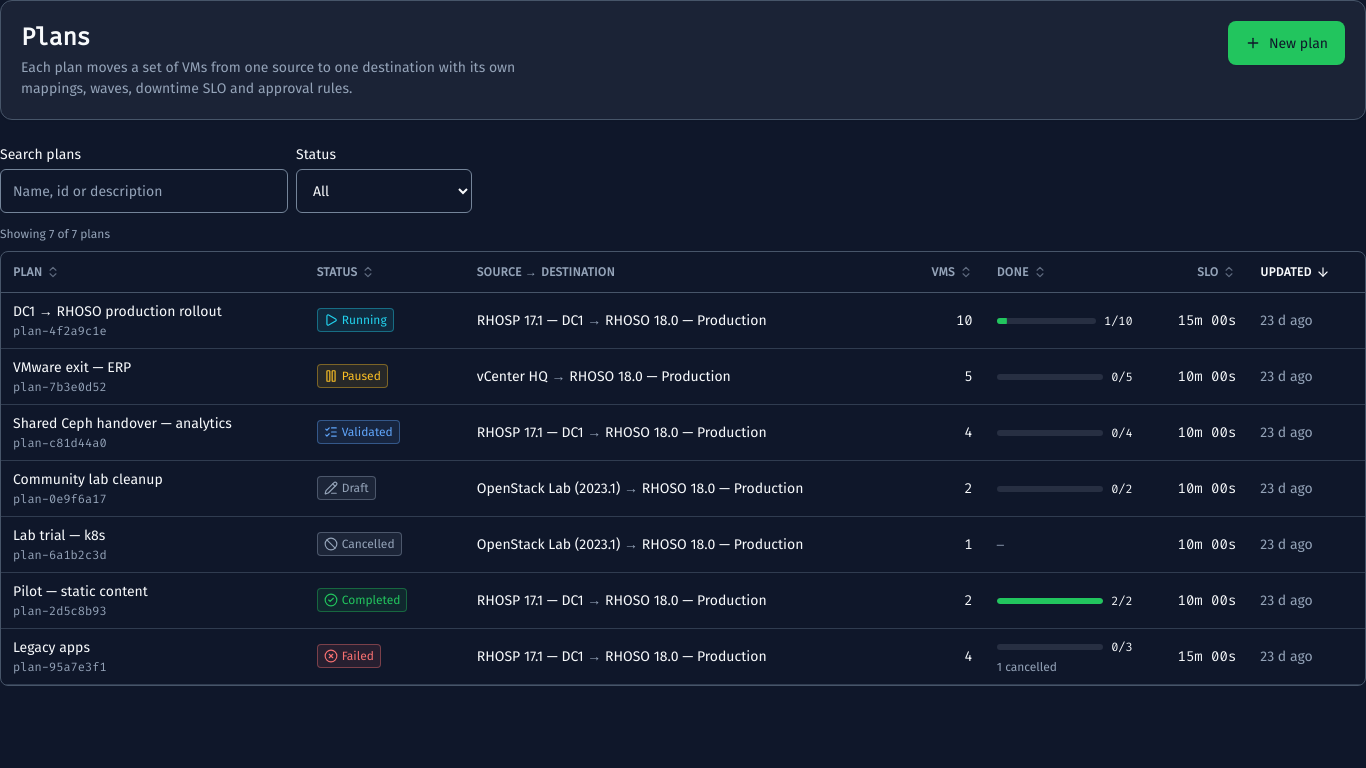
Scenario: Plans page › names a passthrough device no mapping can take
Click the button "New plan". click: (1286, 43)
box: [1228,21,1345,65]
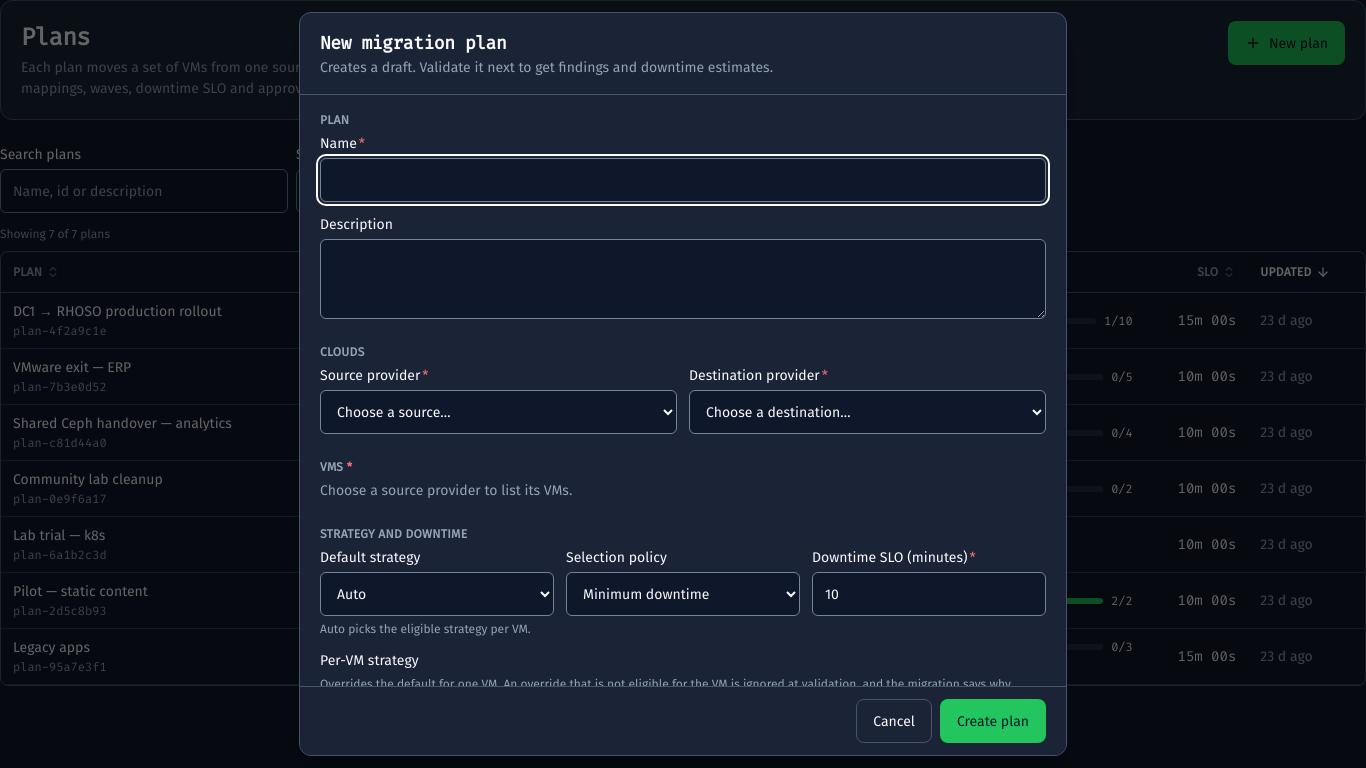
Type "FPGA" into the field labelled "Name*". click: (683, 180)
box: [320,158,1046,202]
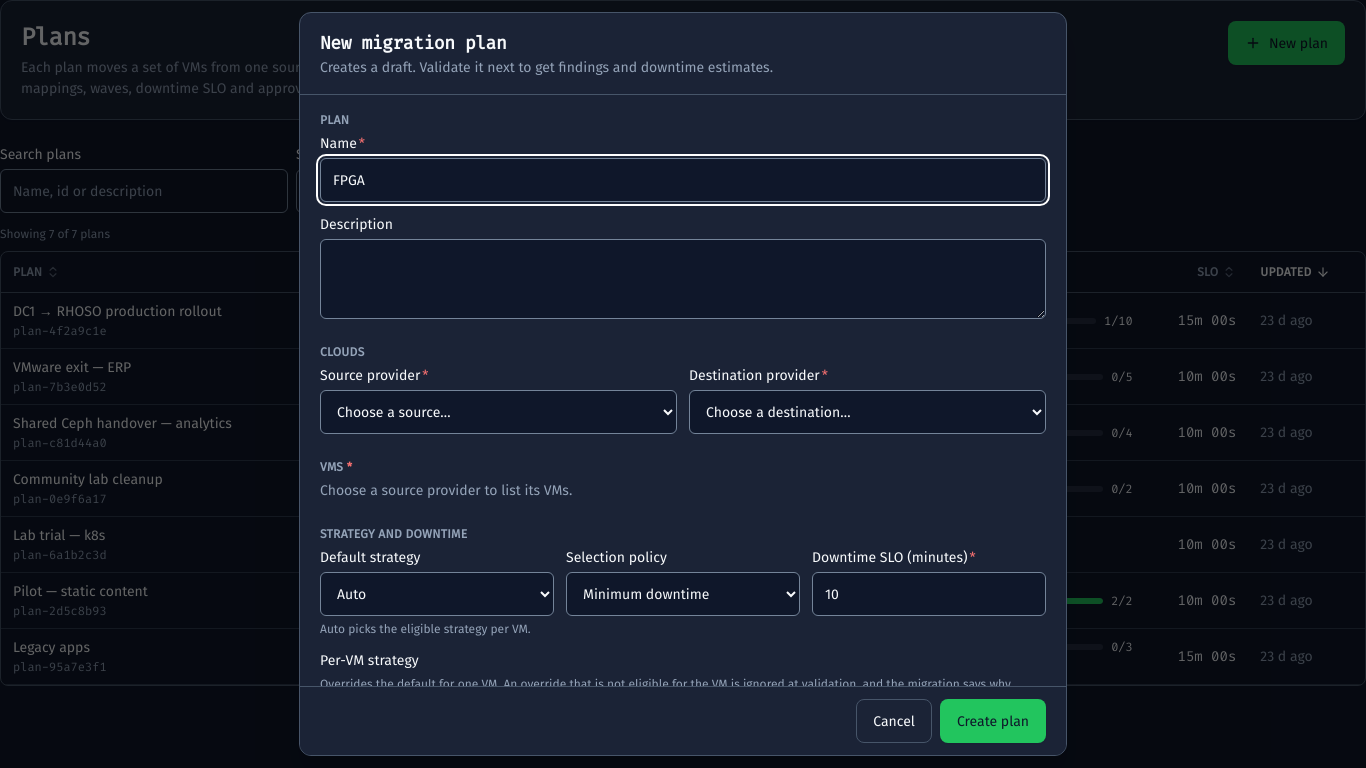
Select "vCenter HQ · Degraded" in the dropdown labelled "Source provider*". click: (498, 412)
box: [320,390,677,434]
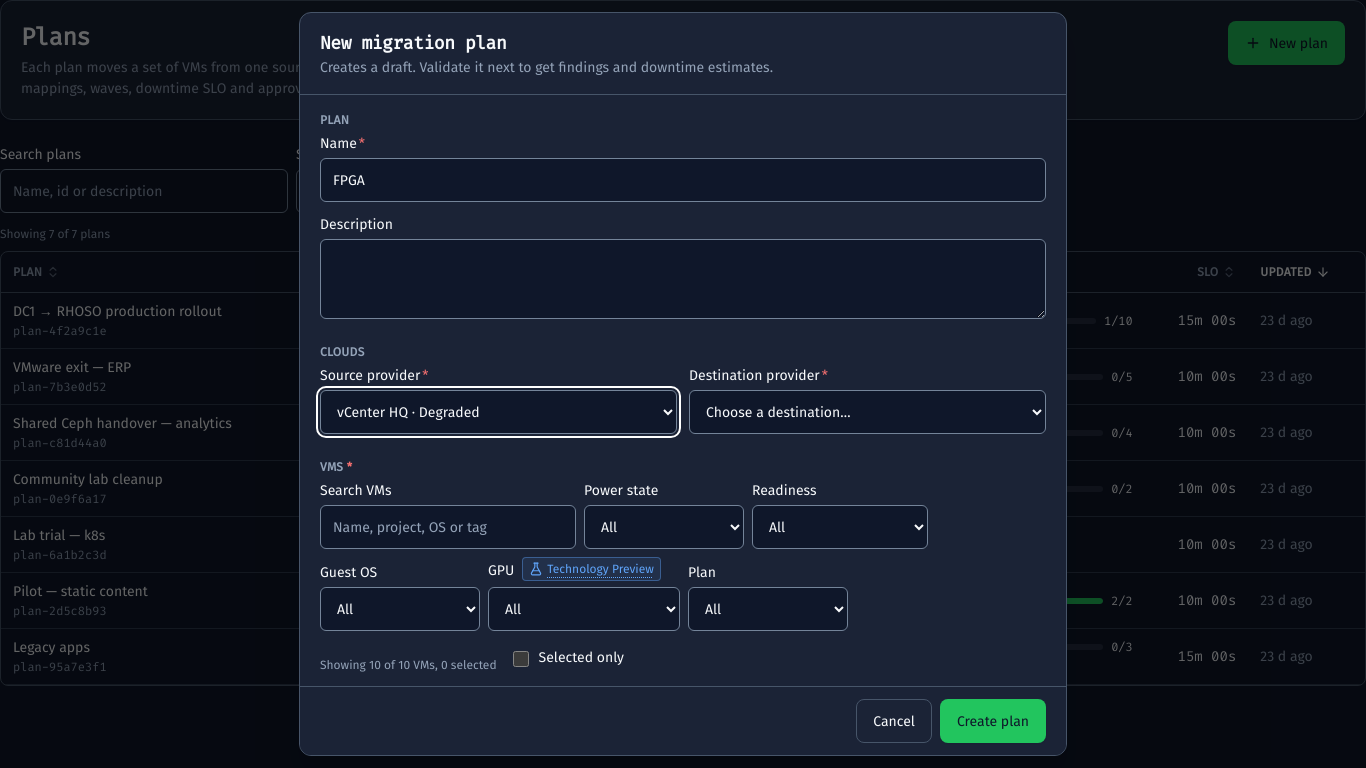
Select "RHOSO 18.0 — Production · Healthy" in the dropdown labelled "Destination provider*". click: (868, 412)
box: [689,390,1046,434]
(page scrolled)
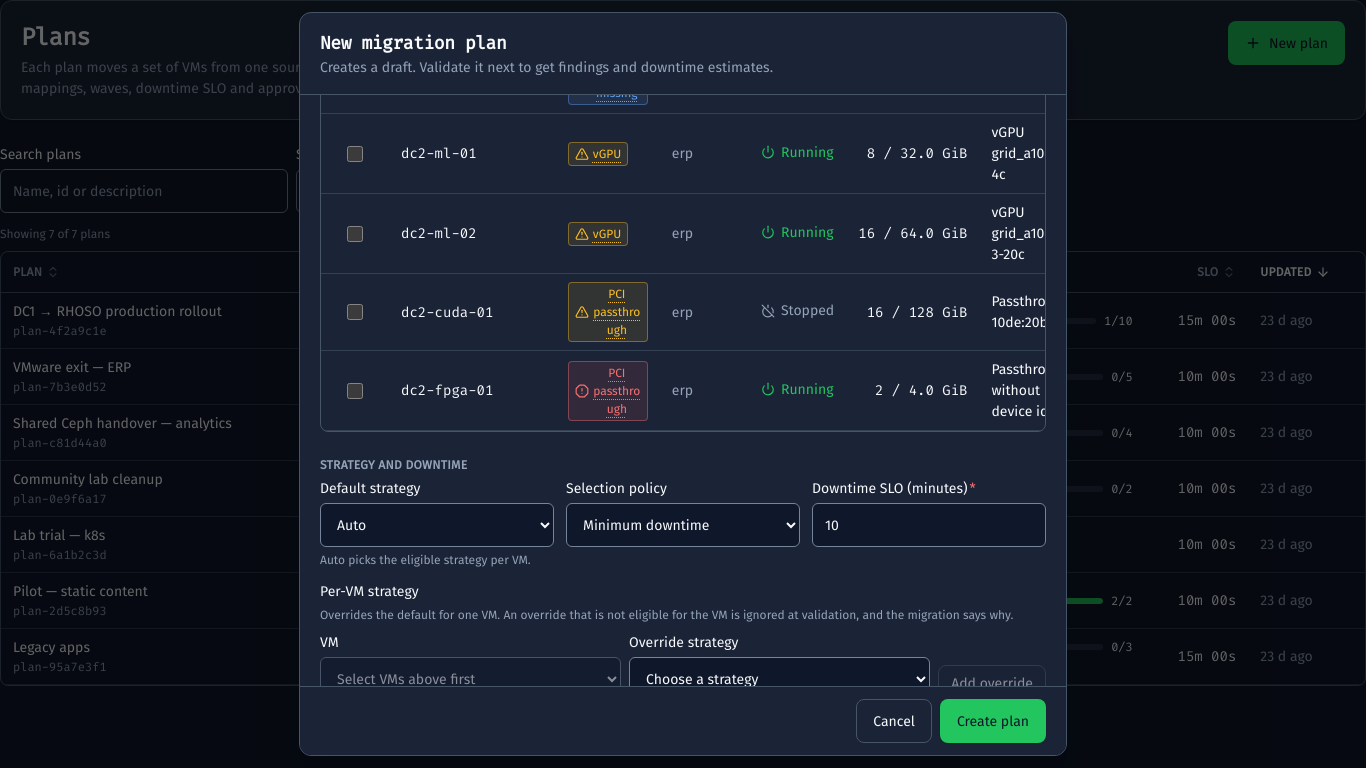
Click the checkbox named "Select dc2-fpga-01". click: (355, 390)
box: [347,382,363,398]
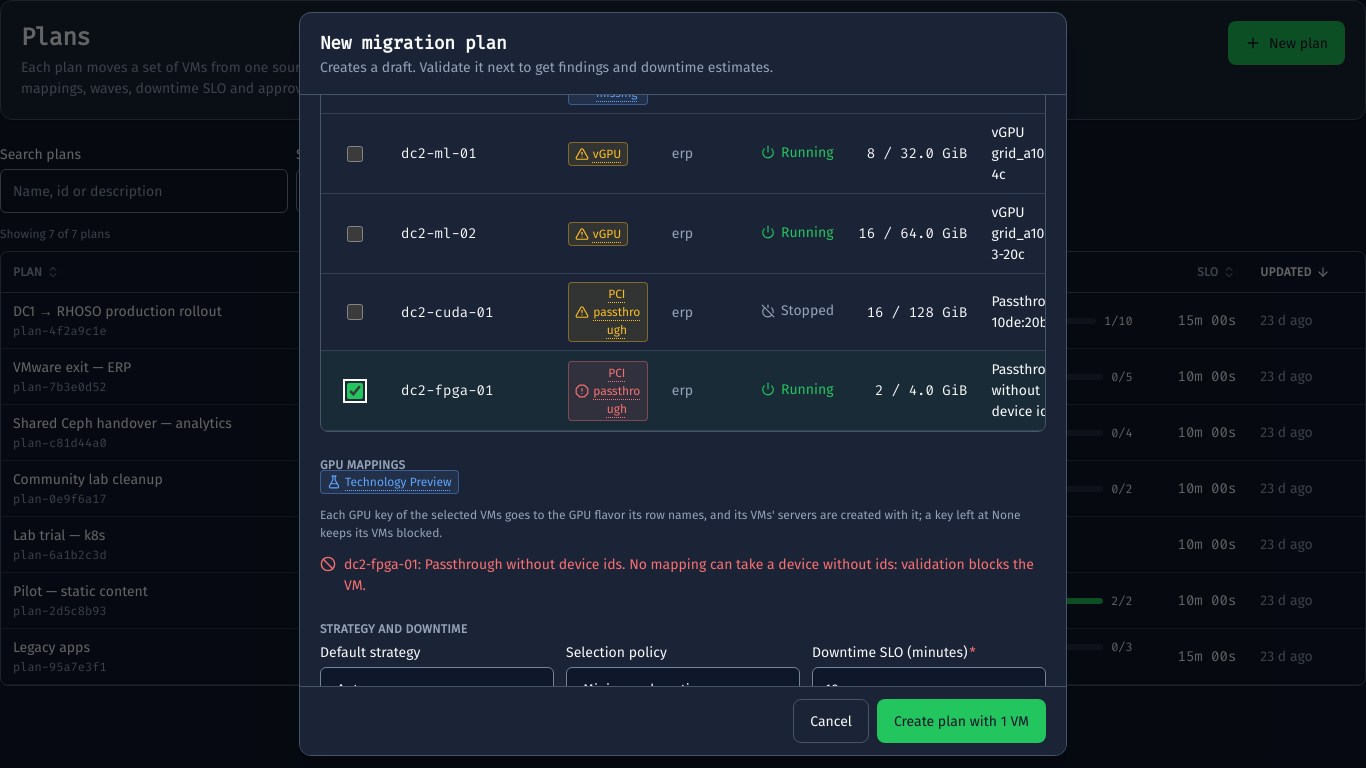
Click the checkbox named "Select dc2-cuda-01". click: (355, 312)
box: [347,304,363,320]
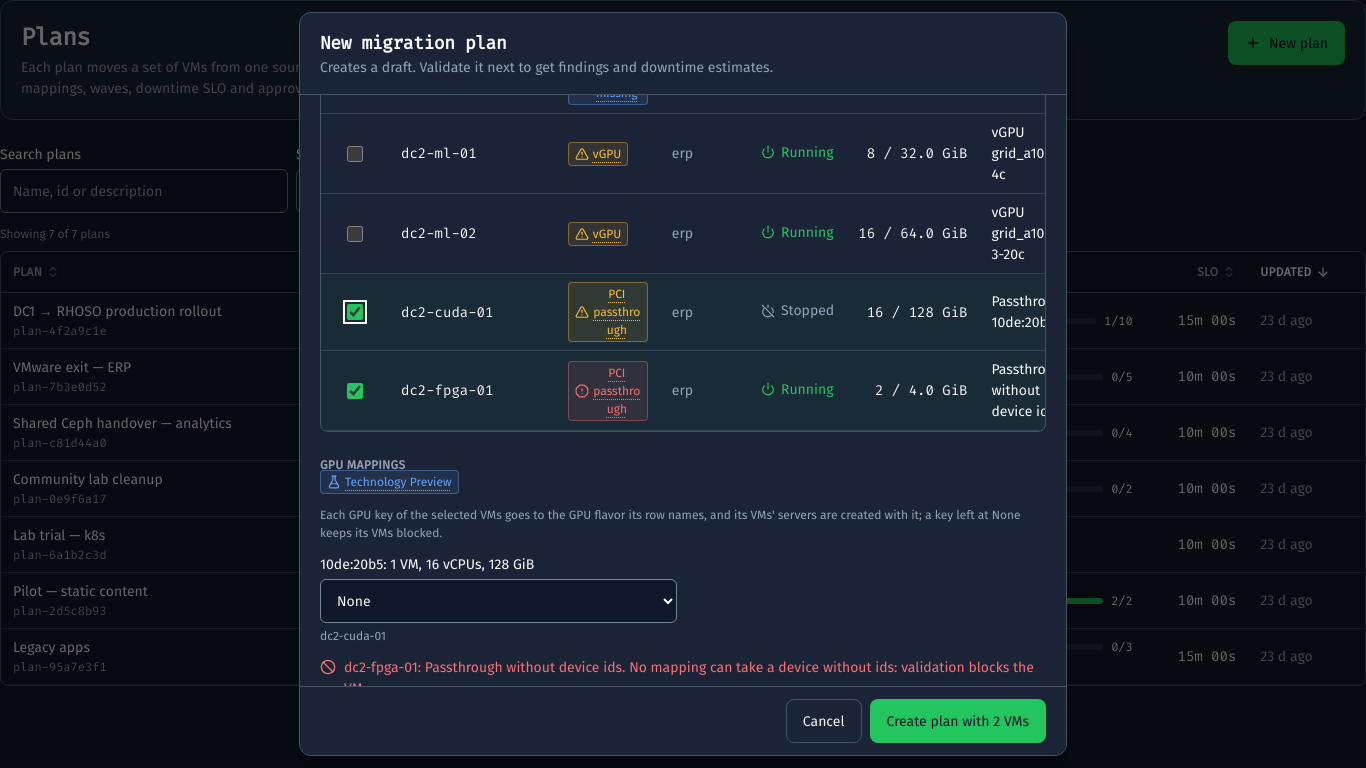
Expected: the element "GPU mappings" shows "dc2-fpga-01: Passthrough without device ids. No mapping can take a device without ids: validation blocks the VM.", [320,456,1046,686]
Expected: the dropdown labelled "10de:20b5: 1 VM, 16 vCPUs, 128 GiB" shows "None", [320,579,677,623]
